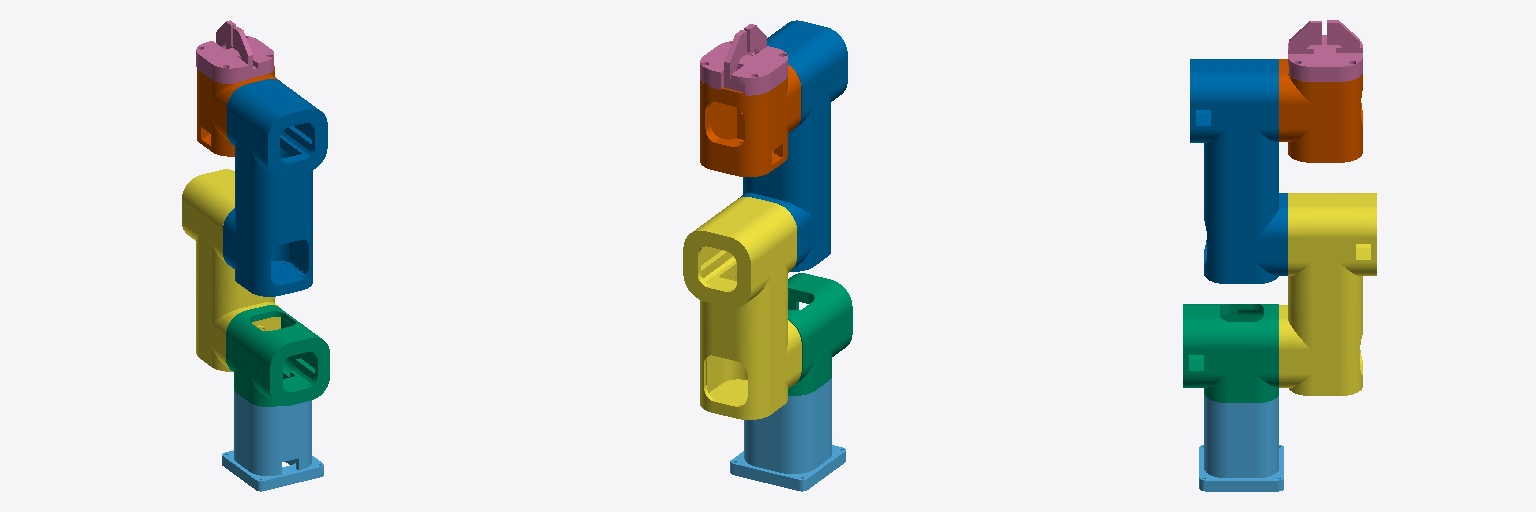
URDF robot description (robot_arm):
<?xml version="1.0"?>
<robot name="robot_arm">

  <!-- World Link (fixed base) -->
  <link name="world"/>

  <!-- CASE_1 Link -->
  <link name="CASE_1">
    <visual>
      <origin xyz="0 0 0" rpy="0 0 0"/>
      <geometry>
        <mesh filename="meshes/CASE_1.stl"/>
      </geometry>
    </visual>
    <collision>
      <origin xyz="0 0 0" rpy="0 0 0"/>
      <geometry>
        <mesh filename="meshes/CASE_1.stl"/>
      </geometry>
    </collision>
    <inertial>
      <origin xyz="0 0 0" rpy="0 0 0"/>
      <mass value="1.0"/>
      <inertia ixx="2.491326" ixy="0.0" ixz="0.0" iyy="2.491326" iyz="0.0" izz="2.207713"/>
    </inertial>
  </link>

  <!-- Joint connecting world to CASE_1 -->
  <joint name="CASE_1_joint" type="fixed">
    <parent link="world"/>
    <child link="CASE_1"/>
    <origin xyz="0.027805 1.532023 1.825173" rpy="-0.000000 -0.000000 0.000000"/>
  </joint>

  <!-- CASE_2 Link -->
  <link name="CASE_2">
    <visual>
      <origin xyz="0 0 0" rpy="0 0 0"/>
      <geometry>
        <mesh filename="meshes/CASE_2.stl"/>
      </geometry>
    </visual>
    <collision>
      <origin xyz="0 0 0" rpy="0 0 0"/>
      <geometry>
        <mesh filename="meshes/CASE_2.stl"/>
      </geometry>
    </collision>
    <inertial>
      <origin xyz="0 0 0" rpy="0 0 0"/>
      <mass value="1.0"/>
      <inertia ixx="2.586780" ixy="0.0" ixz="0.0" iyy="2.028938" iyz="0.0" izz="2.289770"/>
    </inertial>
  </link>

  <!-- Joint connecting CASE_1 to CASE_2 -->
  <joint name="CASE_2_joint" type="revolute">
    <parent link="CASE_1"/>
    <child link="CASE_2"/>
    <origin xyz="-0.035675 0.075565 4.329944" rpy="1.570796 -1.570796 0.000000"/>
    <axis xyz="1 0 0"/>
    <limit lower="-3.14159" upper="3.14159" effort="100" velocity="1.0"/>
  </joint>

  <!-- CASE_3 Link -->
  <link name="CASE_3">
    <visual>
      <origin xyz="0 0 0" rpy="0 0 0"/>
      <geometry>
        <mesh filename="meshes/CASE_3.stl"/>
      </geometry>
    </visual>
    <collision>
      <origin xyz="0 0 0" rpy="0 0 0"/>
      <geometry>
        <mesh filename="meshes/CASE_3.stl"/>
      </geometry>
    </collision>
    <inertial>
      <origin xyz="0 0 0" rpy="0 0 0"/>
      <mass value="1.0"/>
      <inertia ixx="7.625283" ixy="0.0" ixz="0.0" iyy="6.927748" iyz="0.0" izz="2.432560"/>
    </inertial>
  </link>

  <!-- Joint connecting CASE_2 to CASE_3 -->
  <joint name="CASE_3_joint" type="revolute">
    <parent link="CASE_2"/>
    <child link="CASE_3"/>
    <origin xyz="3.816296 -0.124469 -3.085722" rpy="-3.141593 0.000000 -0.000385"/>
    <axis xyz="0 0 1"/>
    <limit lower="-3.14159" upper="3.14159" effort="100" velocity="1.0"/>
  </joint>

  <!-- CASE_4 Link -->
  <link name="CASE_4">
    <visual>
      <origin xyz="0 0 0" rpy="0 0 0"/>
      <geometry>
        <mesh filename="meshes/CASE_4.stl"/>
      </geometry>
    </visual>
    <collision>
      <origin xyz="0 0 0" rpy="0 0 0"/>
      <geometry>
        <mesh filename="meshes/CASE_4.stl"/>
      </geometry>
    </collision>
    <inertial>
      <origin xyz="0 0 0" rpy="0 0 0"/>
      <mass value="1.0"/>
      <inertia ixx="9.192018" ixy="0.0" ixz="0.0" iyy="8.492935" iyz="0.0" izz="2.431012"/>
    </inertial>
  </link>

  <!-- Joint connecting CASE_3 to CASE_4 -->
  <joint name="CASE_4_joint" type="revolute">
    <parent link="CASE_3"/>
    <child link="CASE_4"/>
    <origin xyz="10.193694 -0.015917 0.774402" rpy="3.141593 0.000000 -0.000385"/>
    <axis xyz="0 0 1"/>
    <limit lower="-3.14159" upper="3.14159" effort="100" velocity="1.0"/>
  </joint>

  <!-- CASE_5 Link -->
  <link name="CASE_5">
    <visual>
      <origin xyz="0 0 0" rpy="0 0 0"/>
      <geometry>
        <mesh filename="meshes/CASE_5.stl"/>
      </geometry>
    </visual>
    <collision>
      <origin xyz="0 0 0" rpy="0 0 0"/>
      <geometry>
        <mesh filename="meshes/CASE_5.stl"/>
      </geometry>
    </collision>
    <inertial>
      <origin xyz="0 0 0" rpy="0 0 0"/>
      <mass value="1.0"/>
      <inertia ixx="2.379975" ixy="0.0" ixz="0.0" iyy="2.082965" iyz="0.0" izz="2.028938"/>
    </inertial>
  </link>

  <!-- Joint connecting CASE_4 to CASE_5 -->
  <joint name="CASE_5_joint" type="revolute">
    <parent link="CASE_4"/>
    <child link="CASE_5"/>
    <origin xyz="12.196648 -0.016086 0.783803" rpy="3.141593 0.000000 0.000000"/>
    <axis xyz="0 0 1"/>
    <limit lower="-3.14159" upper="3.14159" effort="100" velocity="1.0"/>
  </joint>

  <!-- GRIPPER_2 Link -->
  <link name="GRIPPER_2">
    <visual>
      <origin xyz="0 0 0" rpy="0 0 0"/>
      <geometry>
        <mesh filename="meshes/GRIPPER_2.stl"/>
      </geometry>
    </visual>
    <collision>
      <origin xyz="0 0 0" rpy="0 0 0"/>
      <geometry>
        <mesh filename="meshes/GRIPPER_2.stl"/>
      </geometry>
    </collision>
    <inertial>
      <origin xyz="0 0 0" rpy="0 0 0"/>
      <mass value="1.0"/>
      <inertia ixx="1.258031" ixy="0.0" ixz="0.0" iyy="1.258031" iyz="0.0" izz="1.731927"/>
    </inertial>
  </link>

  <!-- Joint connecting CASE_5 to GRIPPER_2 -->
  <joint name="GRIPPER_2_joint" type="fixed">
    <parent link="CASE_5"/>
    <child link="GRIPPER_2"/>
    <origin xyz="3.972786 -0.036814 3.769576" rpy="3.141593 -1.570796 0.000000"/>
  </joint>

</robot>

--- What the picture shows (computed from the rendered views, not written in the file) ---
Views: 3 orthographic renders of the robot side by side, from view 1: azimuth 30°, elevation 25°; view 2: azimuth 150°, elevation 25°; view 3: azimuth 270°, elevation 25°.
Model robot_arm with 7 links and 6 joints (4 revolute, 2 fixed), rooted at world, posed all joints at 0.
Links seen in each view (by area): view 1: CASE_4, CASE_3, CASE_2, CASE_1, GRIPPER_2, CASE_5; view 2: CASE_3, CASE_4, CASE_5, CASE_1, CASE_2, GRIPPER_2; view 3: CASE_4, CASE_3, CASE_2, CASE_1, CASE_5, GRIPPER_2.
Boxes of the visible links, x1,y1,x2,y2 form: CASE_4: (223, 79, 327, 296); CASE_3: (182, 169, 280, 371); CASE_2: (226, 305, 329, 406); CASE_1: (222, 390, 323, 491); GRIPPER_2: (196, 20, 273, 83); CASE_5: (197, 66, 279, 156); CASE_3: (683, 197, 801, 419); CASE_4: (738, 20, 847, 271); CASE_5: (700, 65, 800, 176); CASE_1: (730, 378, 845, 491); CASE_2: (788, 273, 852, 395); GRIPPER_2: (700, 24, 787, 95); CASE_4: (1190, 59, 1287, 283); CASE_3: (1279, 193, 1376, 395); CASE_2: (1183, 304, 1278, 402); CASE_1: (1199, 395, 1283, 491); CASE_5: (1279, 59, 1362, 162); GRIPPER_2: (1288, 20, 1362, 81).
Bounding box of the posed robot: 7 × 16.01 × 41.16 m (x, y, z).
Meshes: 6 distinct files referenced, 6 mesh visuals loaded (6 binary STL).
